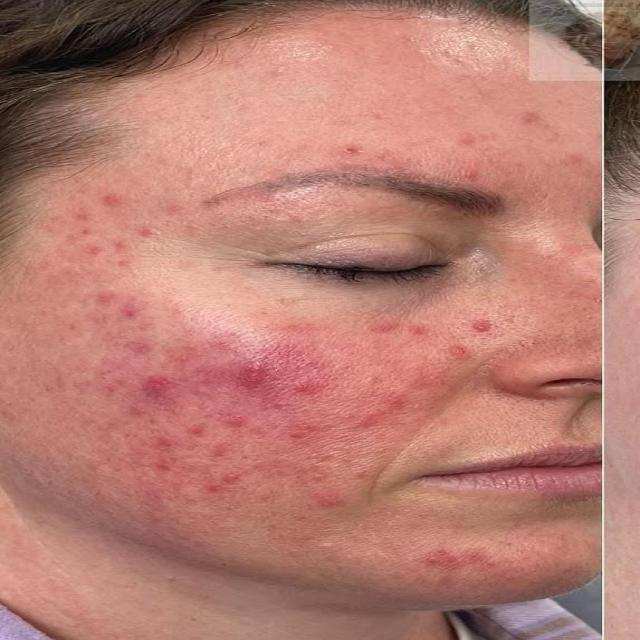Rosacea: (23, 182, 490, 538), (420, 540, 503, 581)
